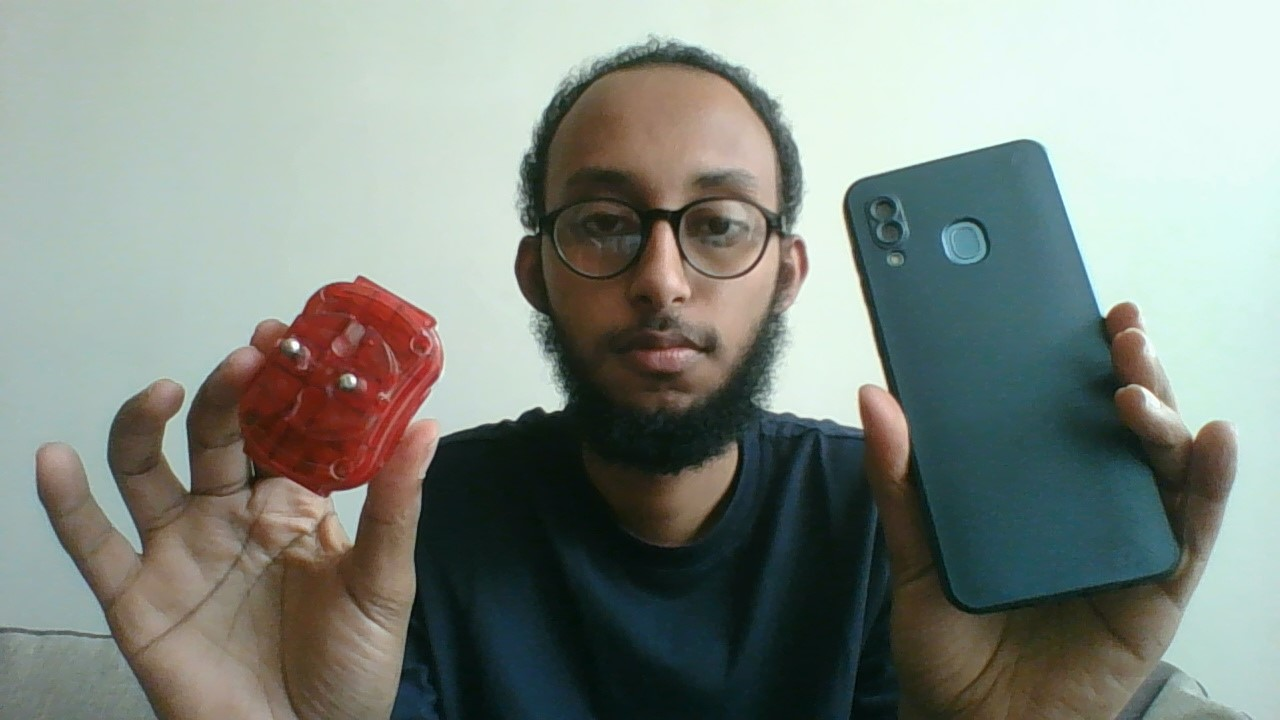Multi_adapter: (231, 269, 447, 501)
Smart_phone: (835, 135, 1187, 617)
